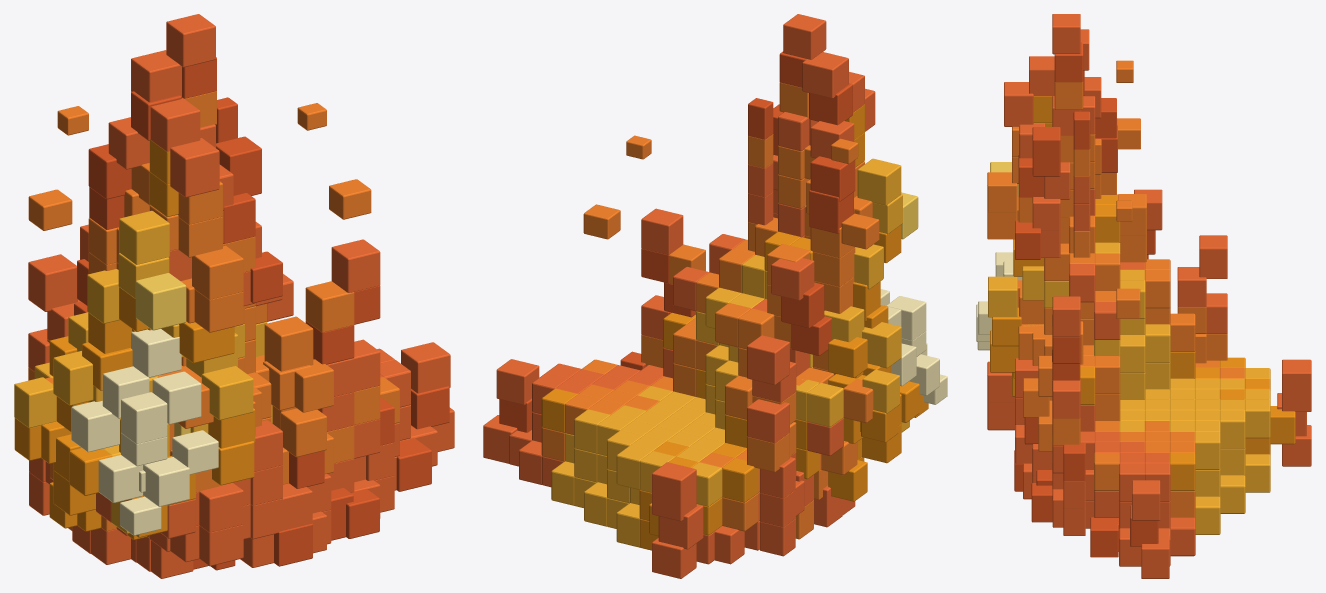
The model's file is SM_Blender_Ember.glb.
The picture shows the model from 3 angles, left to right: view 1: azimuth 30°, elevation 25°; view 2: azimuth 150°, elevation 25°; view 3: azimuth 270°, elevation 25°; orthographic projection. The views are drawn at different scales.
Visible parts, largest first — view 1: SM_Blender_Ember; view 2: SM_Blender_Ember; view 3: SM_Blender_Ember.
Part boxes in pixels (bbox=[...]): SM_Blender_Ember: bbox=[14, 14, 454, 578]; SM_Blender_Ember: bbox=[483, 14, 947, 578]; SM_Blender_Ember: bbox=[976, 14, 1311, 578].
Size of the model in its own units: 1.18 by 1.35 by 0.9383.
1 material, 1 textured.
